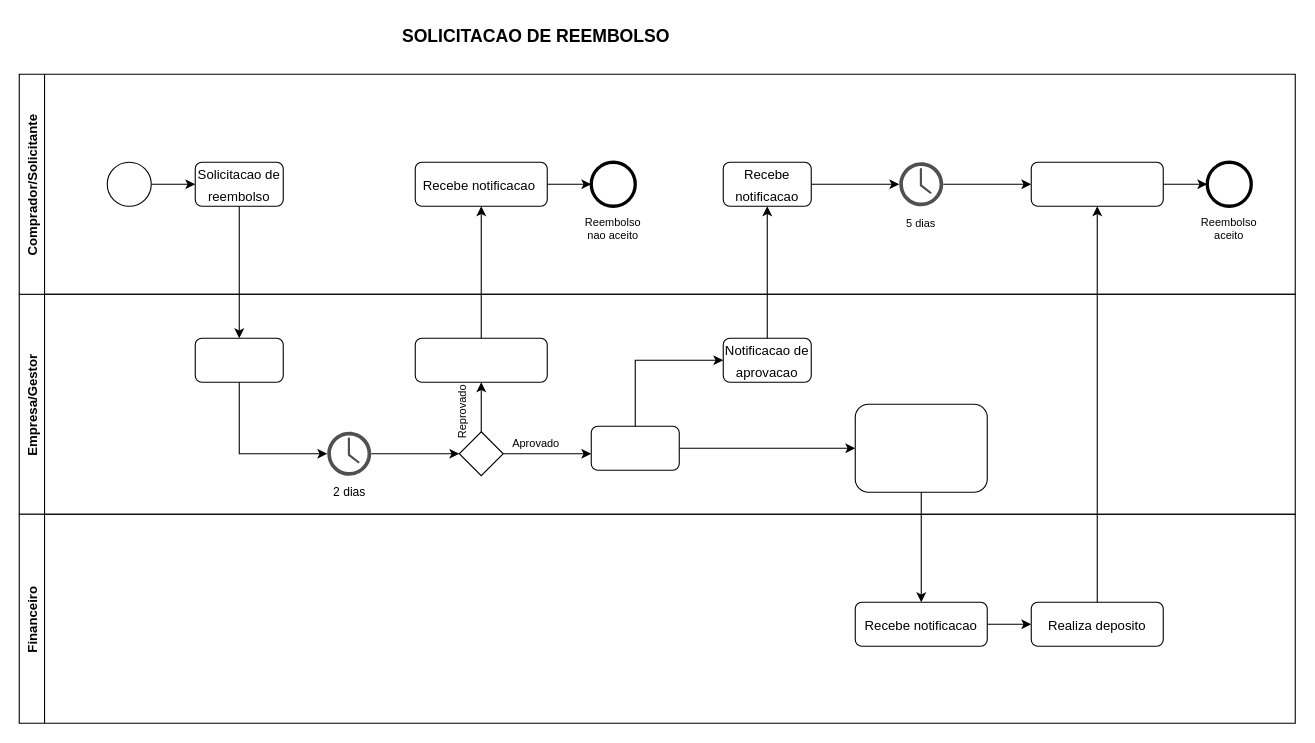
The diagram is 1315 pixels wide and 743 high, and some of its shapes have lost their labels. The shapes that lost their labels are listed below. From the top down, each one's centre as x and y in pixels, then its label:
At (1096,183): "Recebe deposito do valor reembolsado".
At (238,359): "Avaliação do reembolso".
At (480,359): "Notificacao sobre criteritos".
At (634,447): "Aprovacao do reembolso".
At (920,447): "Notificacao para realizacao do deposito".
